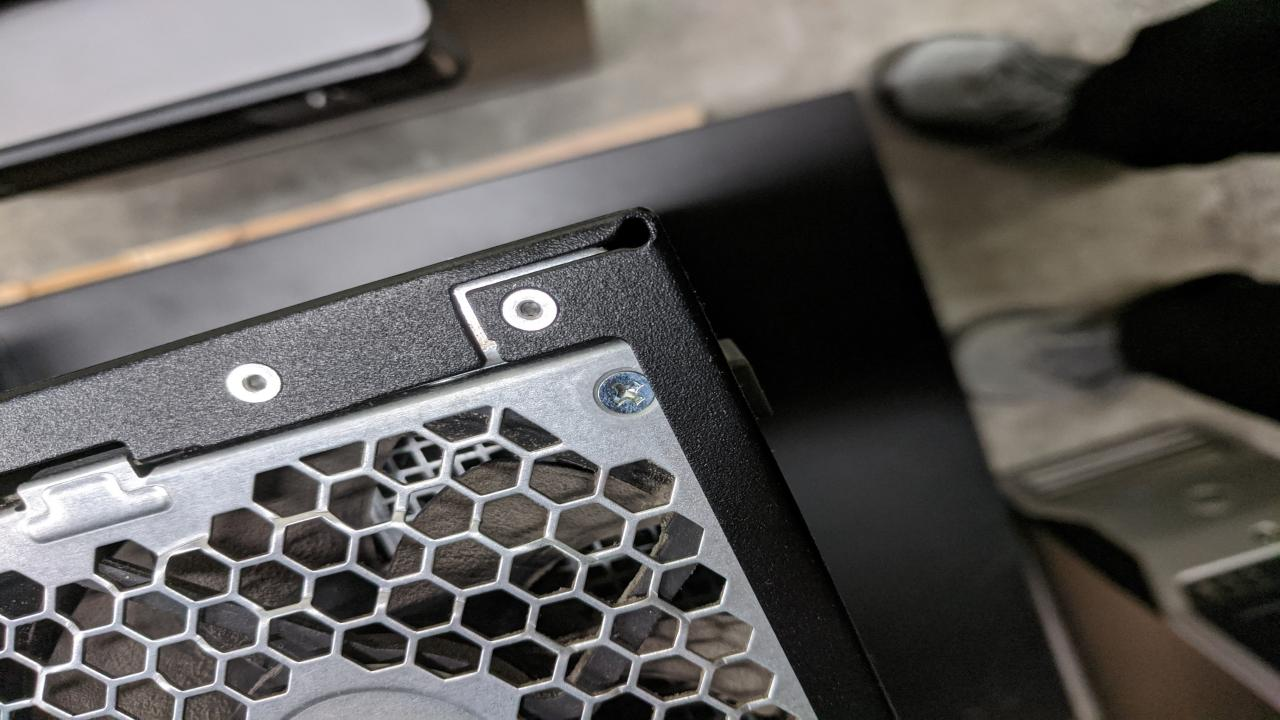CRS: (593, 368, 658, 421)
